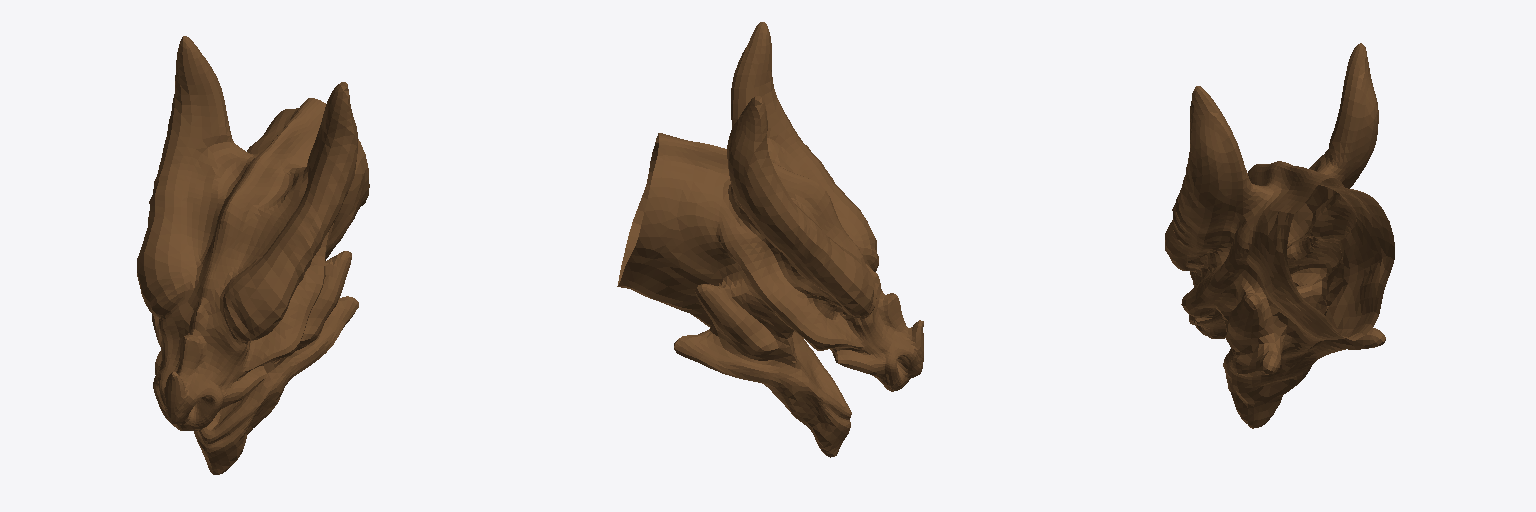
3 renders of one model, left to right at view 1: azimuth 30°, elevation 25°; view 2: azimuth 150°, elevation 25°; view 3: azimuth 270°, elevation 25°, orthographic.
Parts seen in each view (by area): view 1: Cabeza_5; view 2: Cabeza_5; view 3: Cabeza_5.
Part boxes in pixels (x1,y1,x2,y2): Cabeza_5: (137,36,369,474); Cabeza_5: (617,22,923,457); Cabeza_5: (1165,43,1394,428).
Bounding box in the file's own units: 1.39 × 2.15 × 1.14.
Materials: 1 (1 with a texture image).